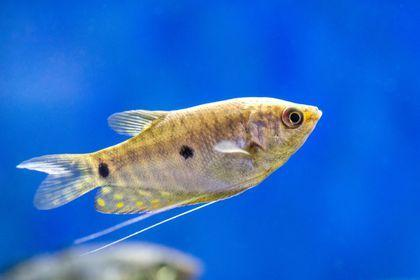Gourami: (17, 96, 324, 259)
